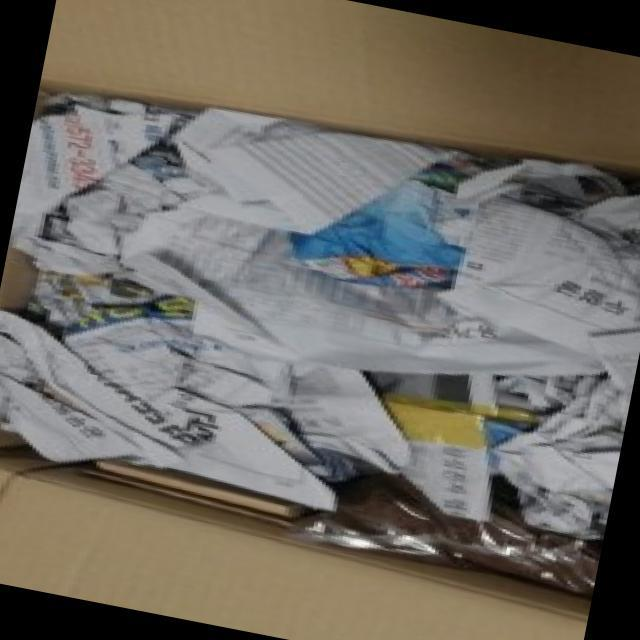reuseable_paper: (12, 95, 640, 547)
